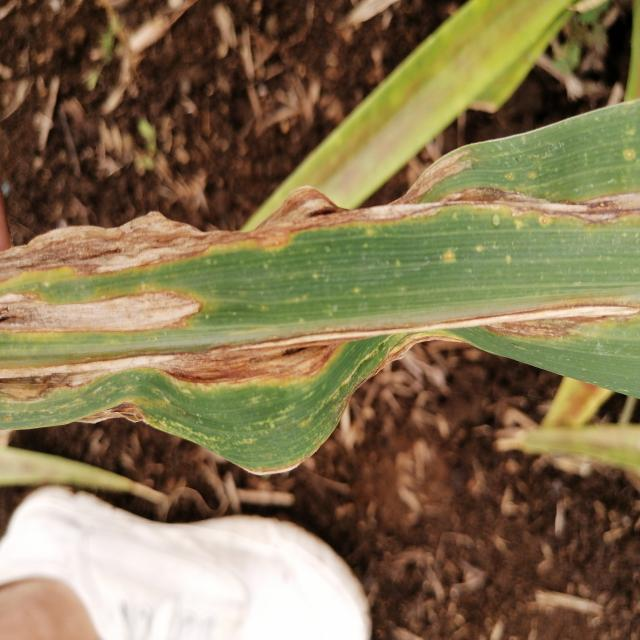Corn_Leaf_Blight: (0, 130, 640, 457)
